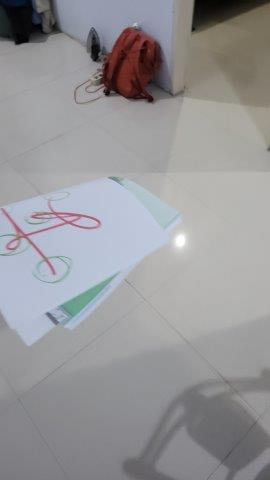kertas: (1, 178, 185, 356)
